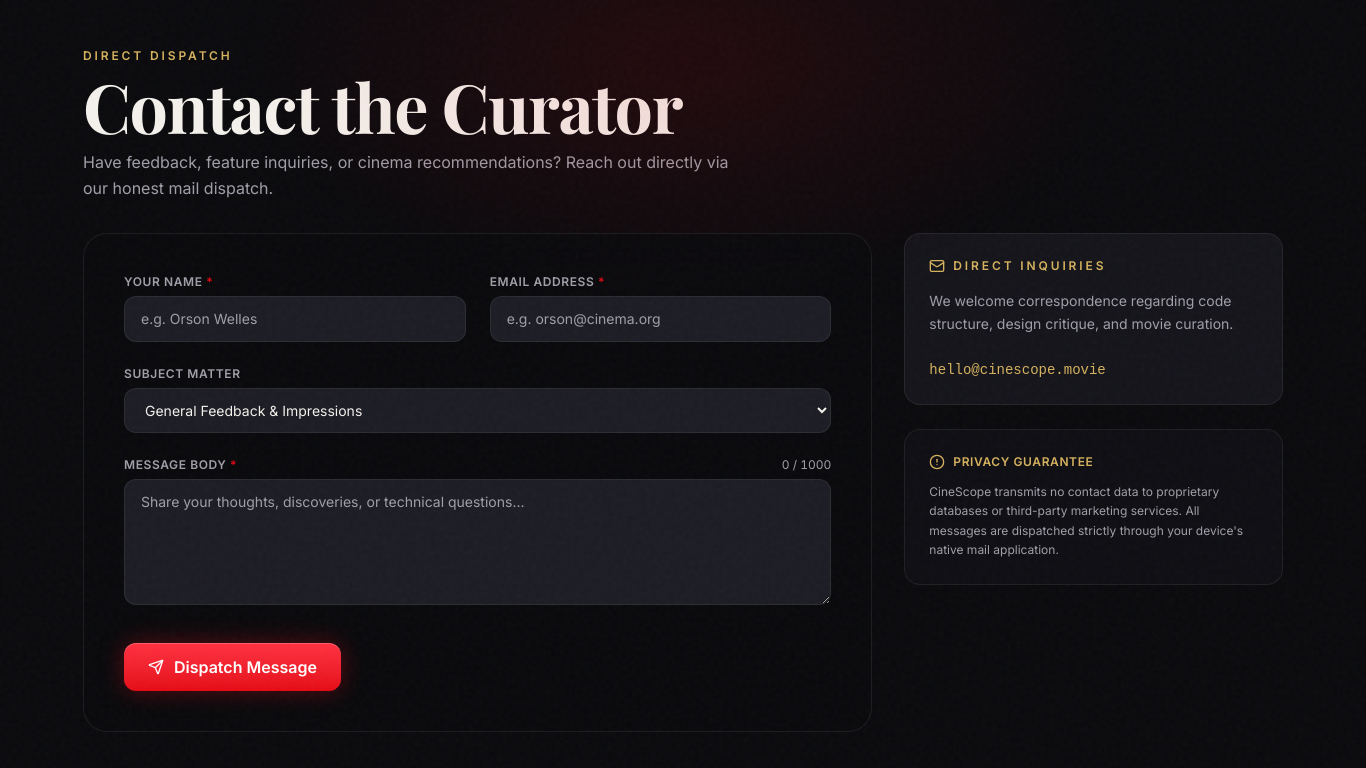
Test: Contact Page › validates email format on blur when entering invalid format
Type "not-an-email" into the field labelled "Email Address *".
click(661, 319); type("not-an-email")  # box [490,296,831,342]
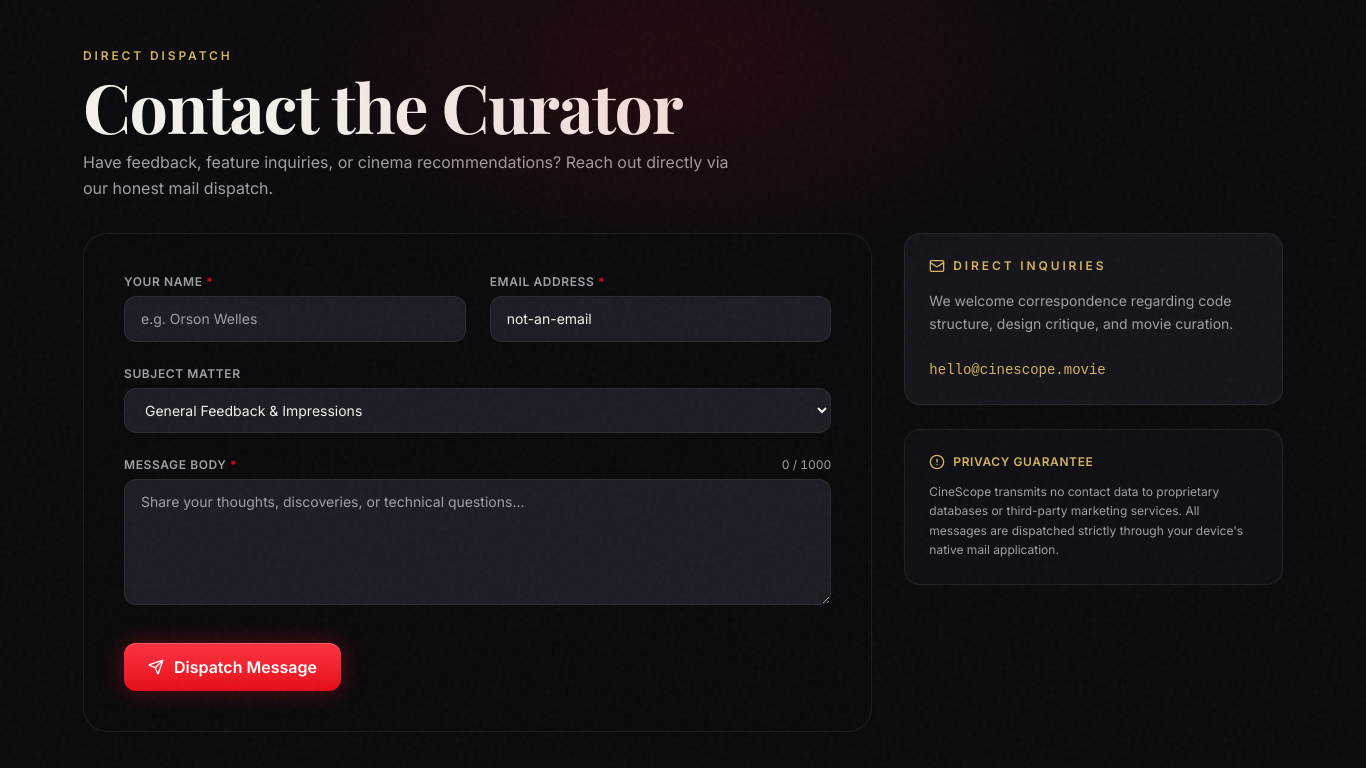
Leave the field labelled "Email Address *", box [490,296,831,342]
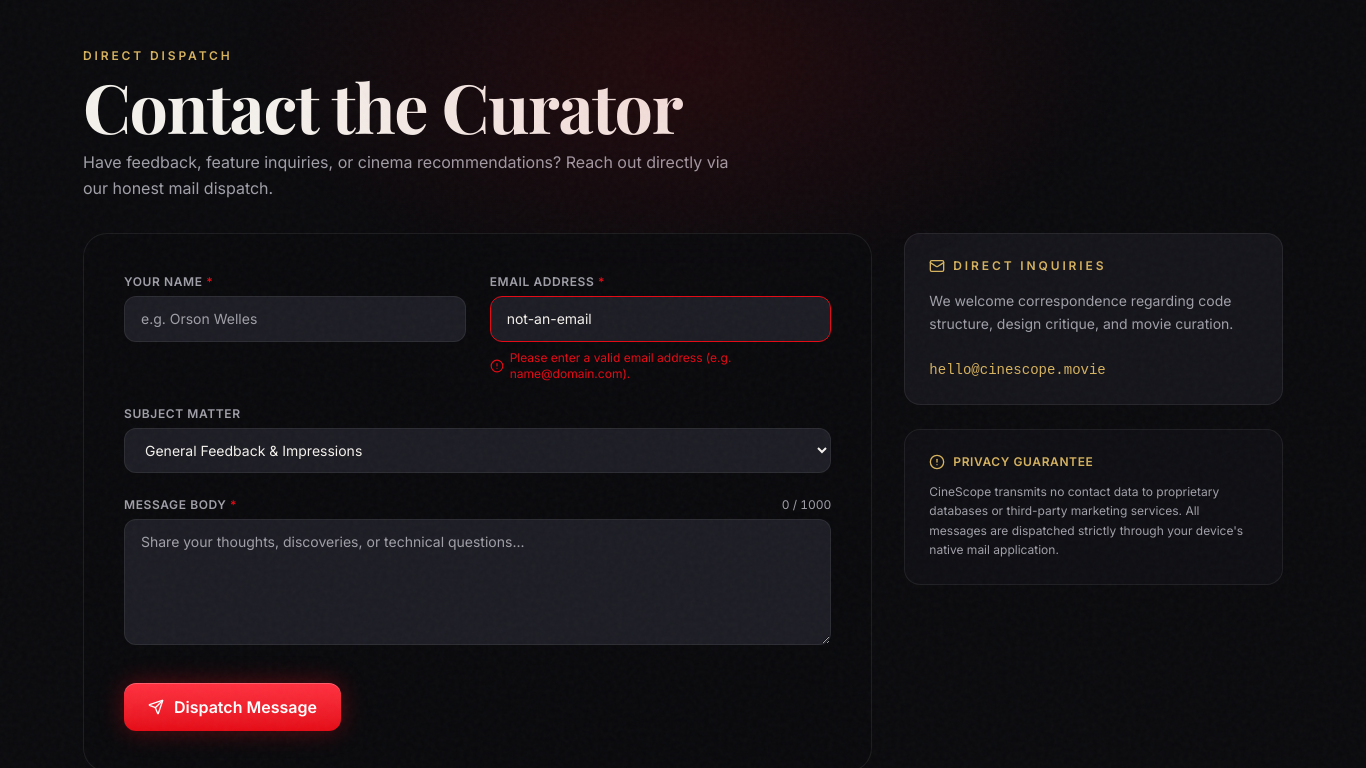
Expected: the text "Please enter a valid email address (e.g. name@domain.com)." is shown, [510,350,731,381]
